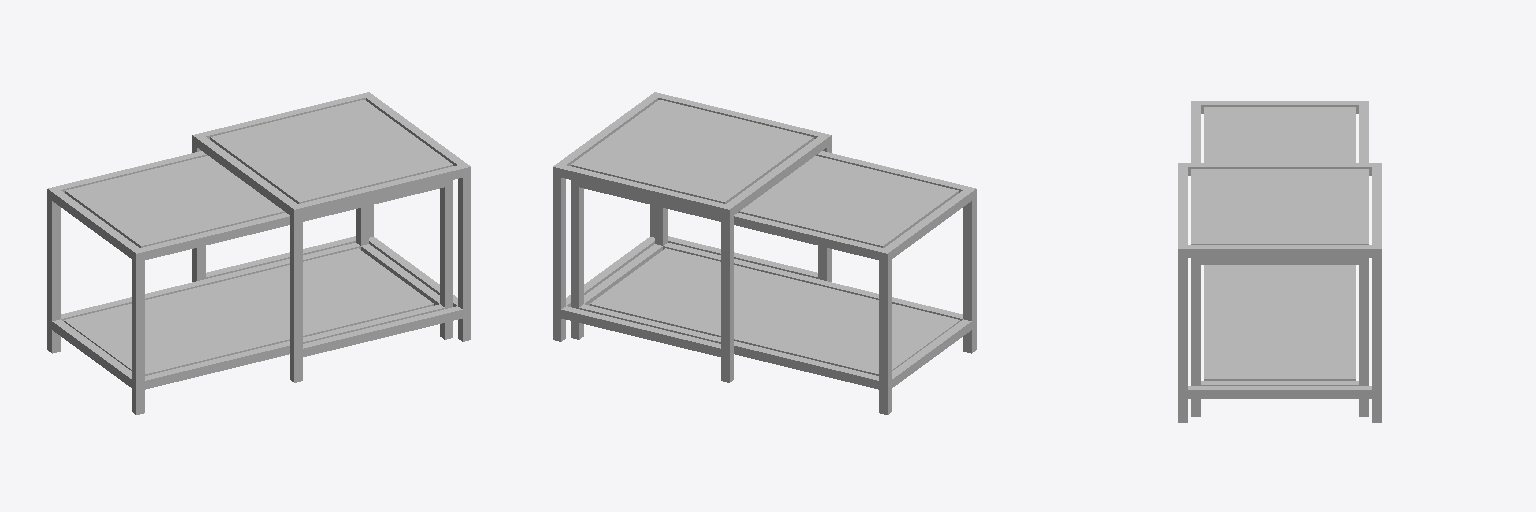
File: coffee.obj
The picture shows the model from 3 angles: view 1: azimuth 30°, elevation 25°; view 2: azimuth 150°, elevation 25°; view 3: azimuth 270°, elevation 25°; orthographic projection.
Size of the model in its own units: 1.17 by 0.59 by 0.63.